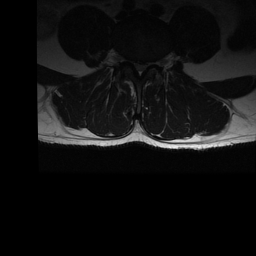CCS_stenosis: (137, 58, 142, 78)
LFS_severe_stenosis: (148, 56, 153, 70)
LLS_stenosis: (143, 59, 147, 73)
RFS_severe_stenosis: (127, 53, 133, 69)
RLS_stenosis: (133, 57, 137, 73)
